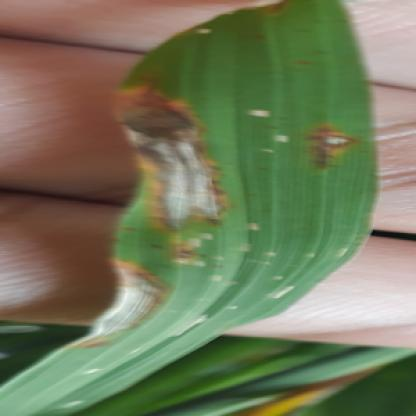Rice blast: (109, 61, 240, 251), (75, 252, 177, 356), (308, 116, 358, 165)
